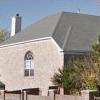Chimney: (6, 7, 24, 34)
